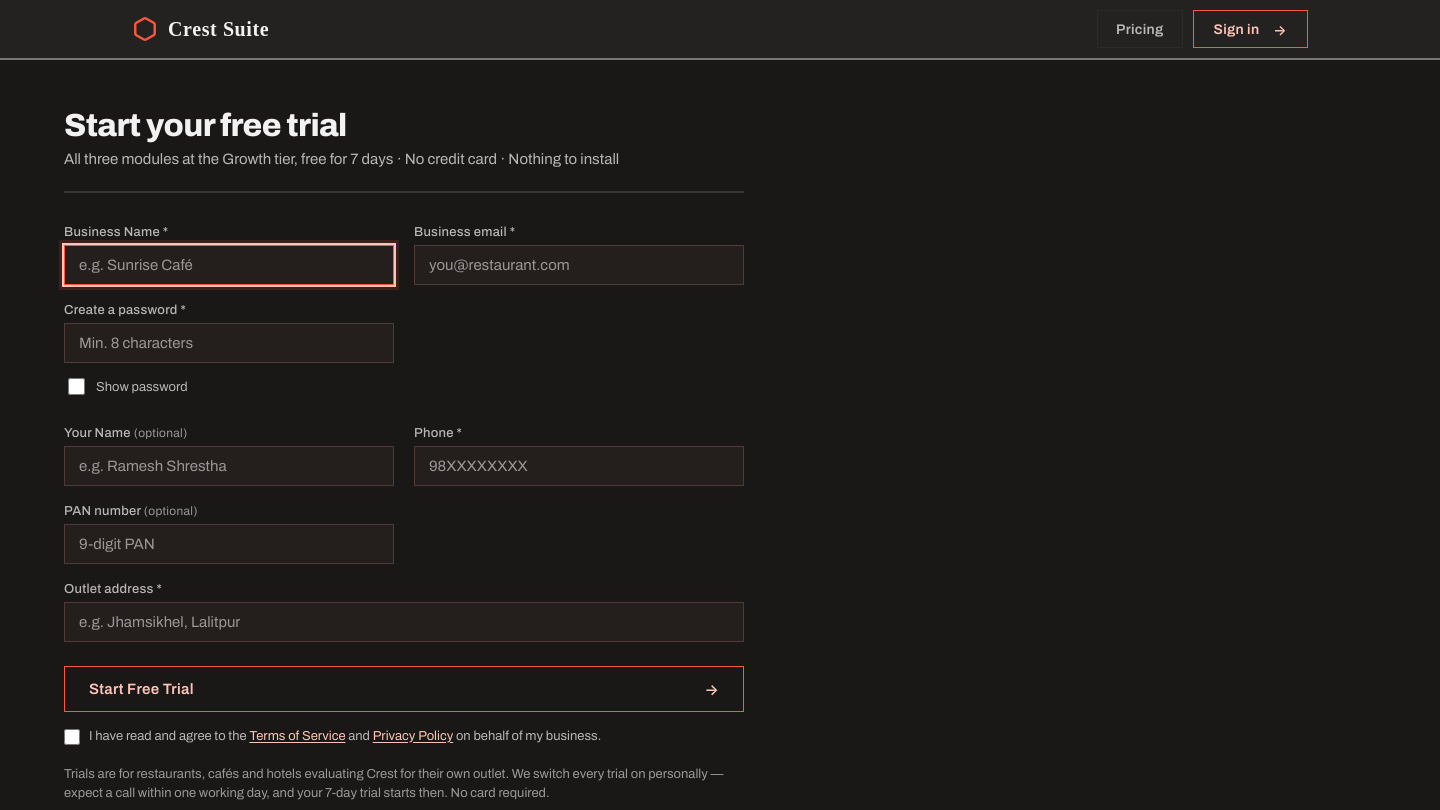
Test case: the consent checkbox gates the signup › refuses to submit while unchecked, and says why
This screenshot has width=1440, height=810.
In the field labelled "Business Name *": (229, 265) [64,245,394,285], type "Sunrise Cafe"
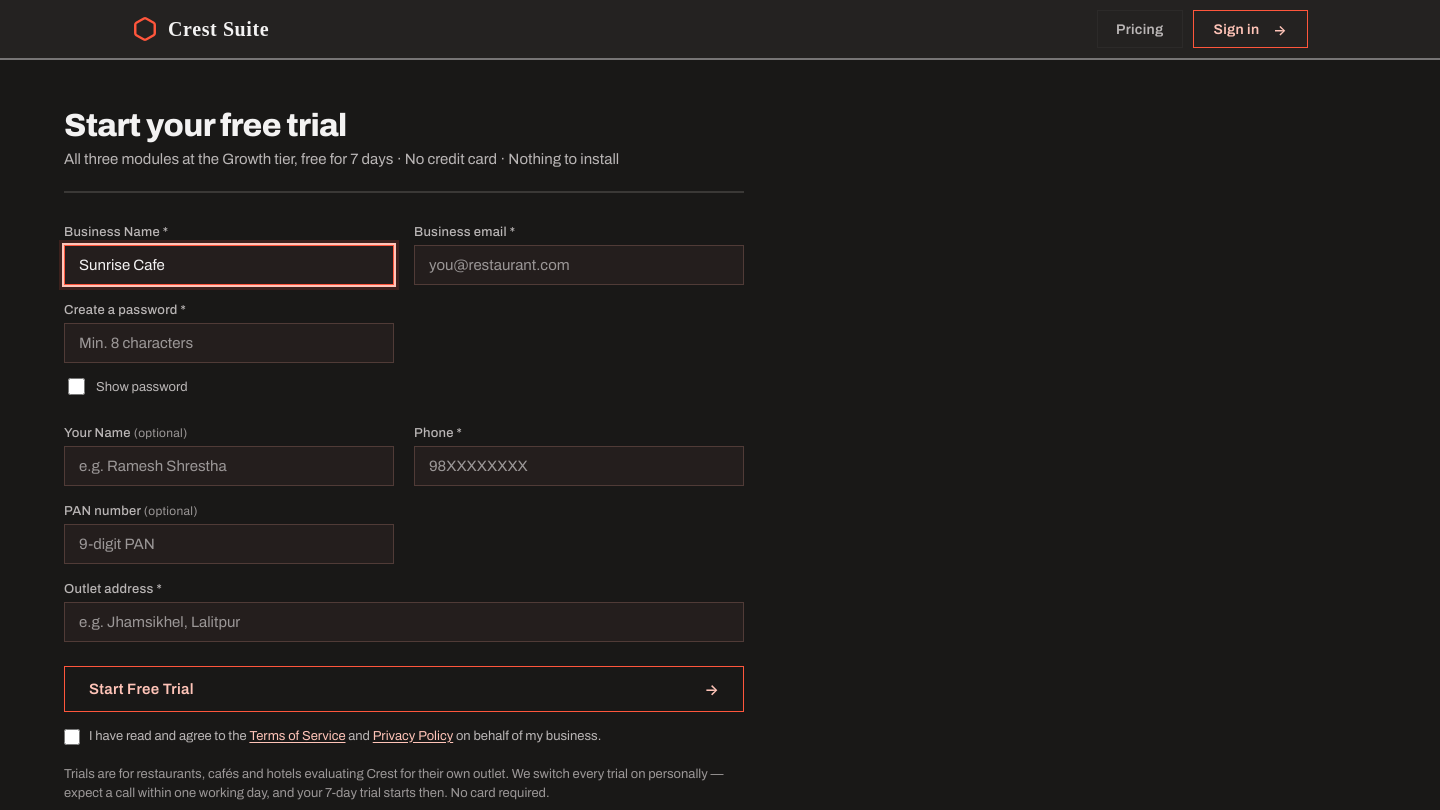
In the field labelled "Business email *": (579, 265) [414,245,744,285], type "owner@sunrise.com"
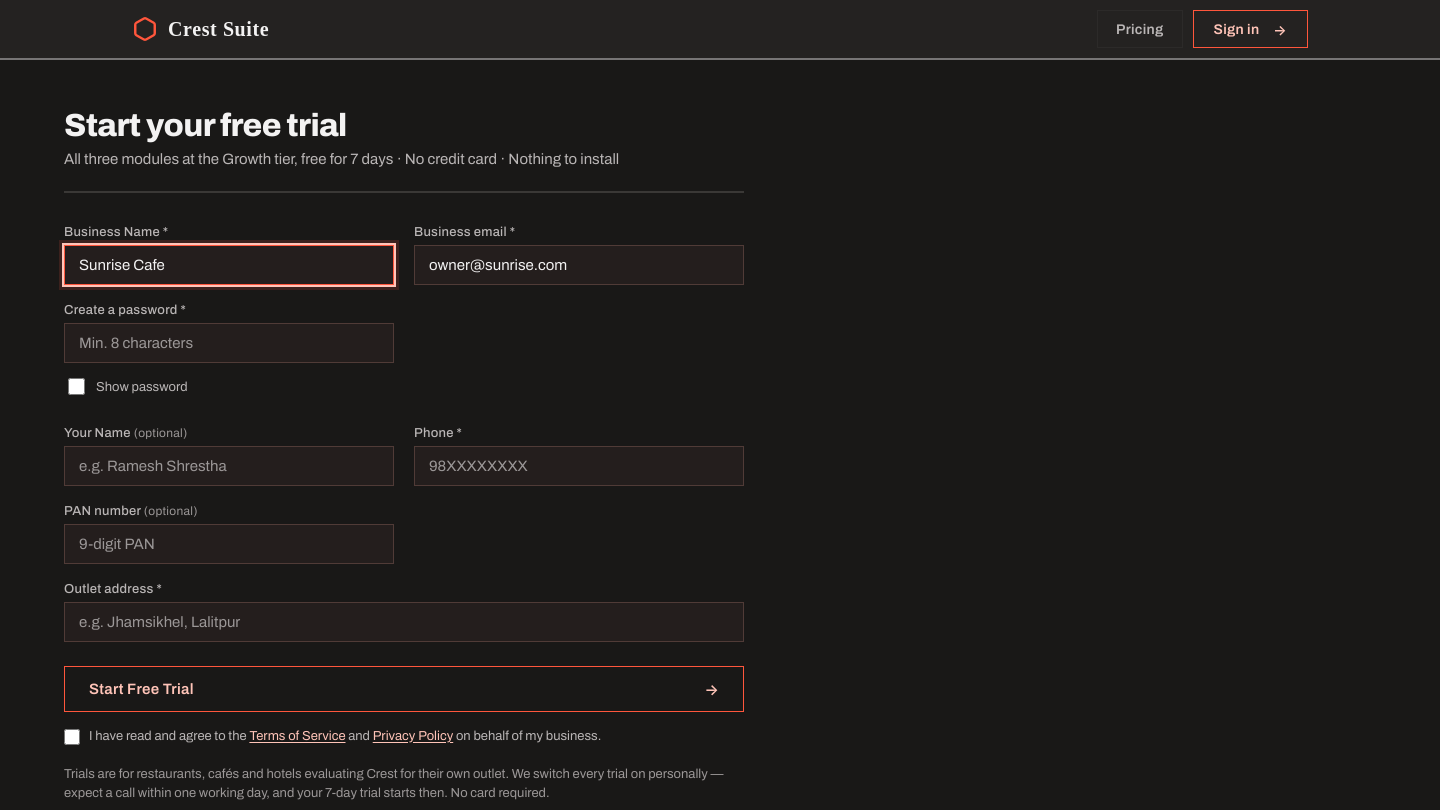
In the password field labelled "Create a password *": (229, 343) [64,323,394,363], type "Kh4trm-9quiet-Ledge"
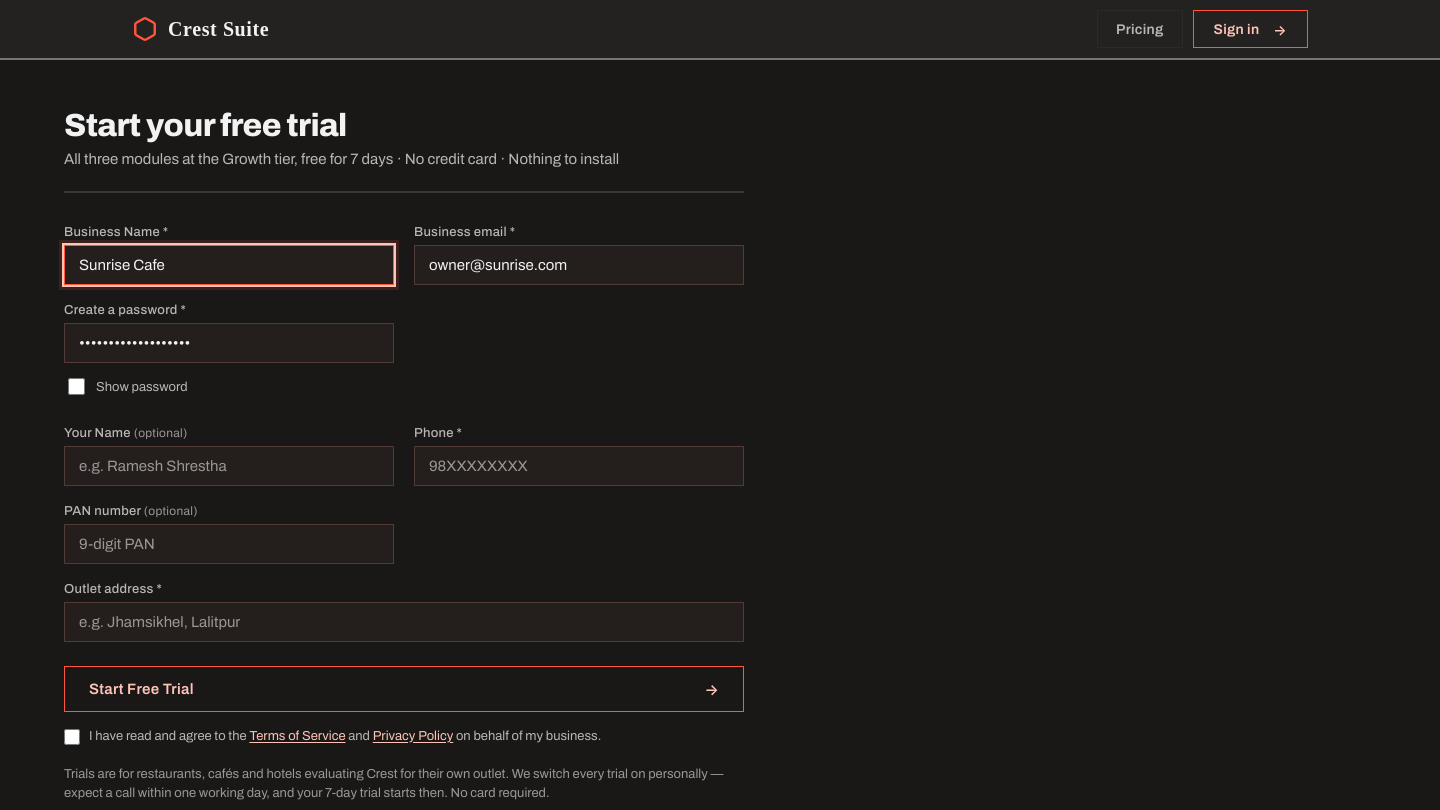
In the field labelled "Phone *": (579, 466) [414,446,744,486], type "9801234567"
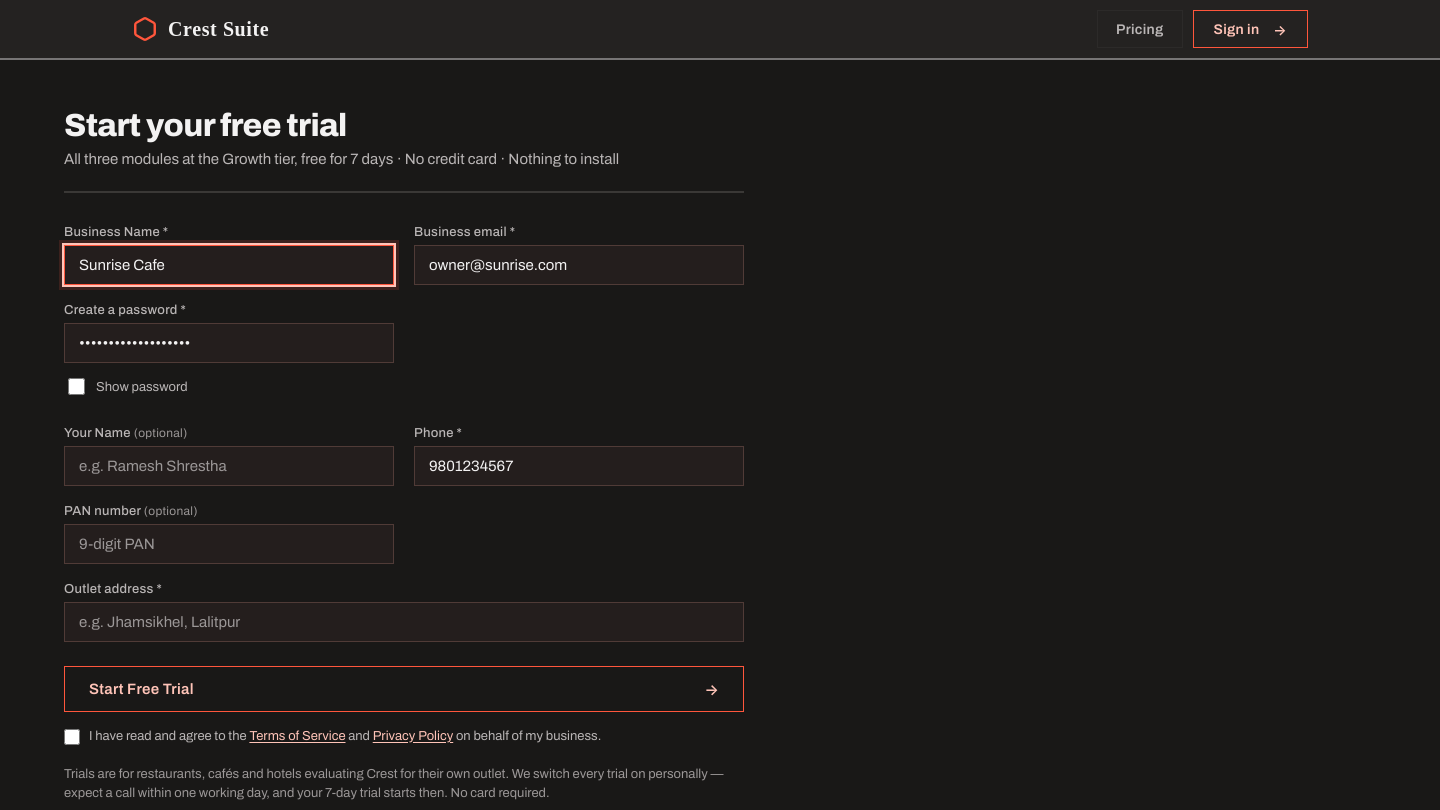
In the field labelled "Outlet address *": (404, 622) [64,602,744,642], type "Jhamsikhel, Lalitpur"
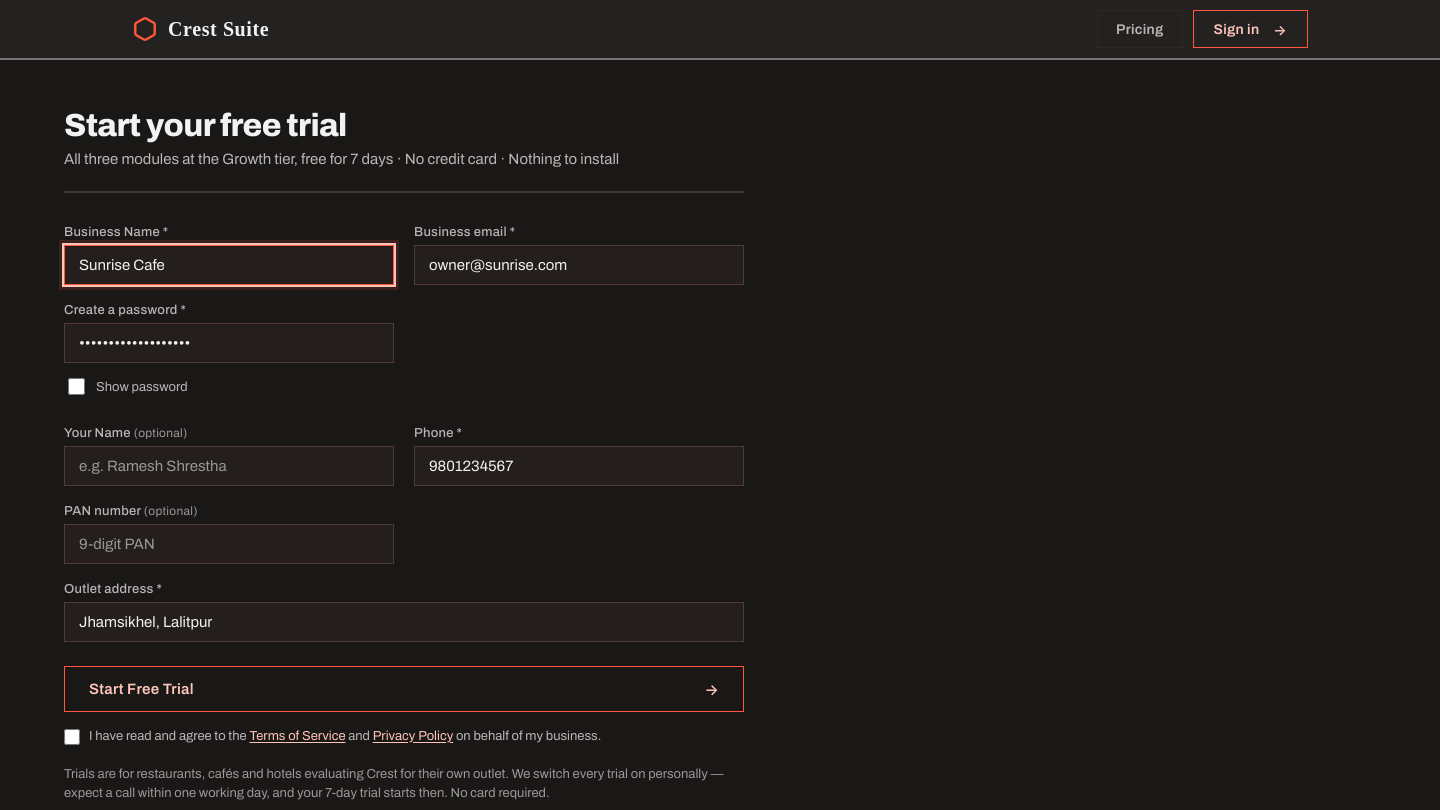
Click the button "Start Free Trial →": (141, 689) [64,666,744,712]
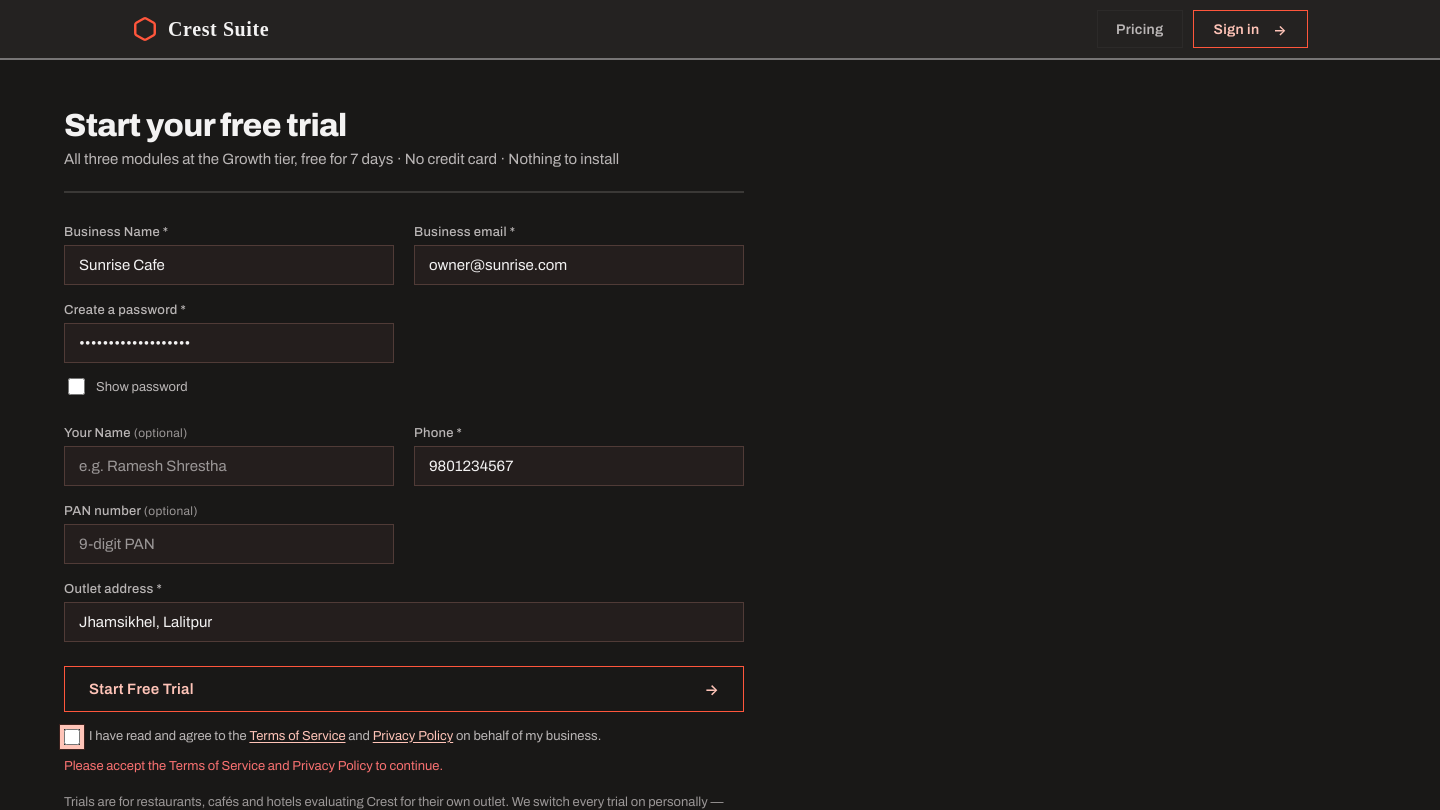
Now the text "Please accept the Terms of Service and Privacy Policy to continue." is shown, box [64,759,443,773]
